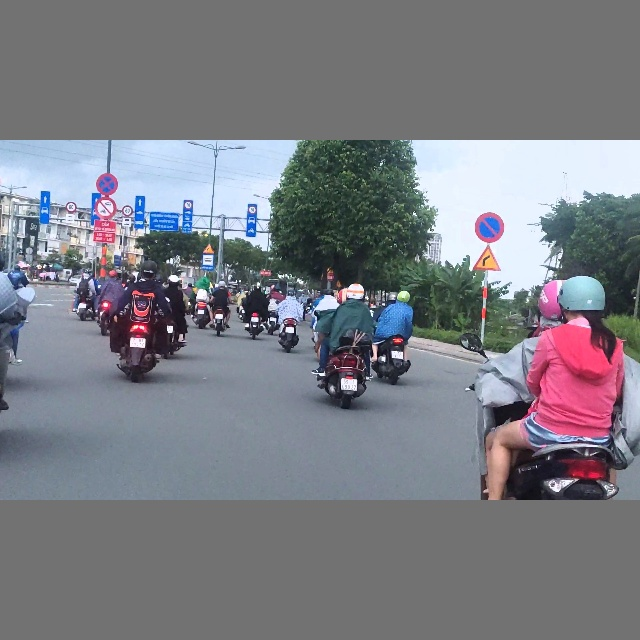I.434a: (201, 253, 215, 271)
P.111: (95, 197, 116, 219)
P.127*50: (184, 201, 193, 209), (249, 206, 257, 213)
P.127*60: (123, 205, 133, 216)
P.127*80: (65, 201, 77, 213)
P.130: (96, 173, 118, 197)
P.131a: (473, 211, 504, 242)
S.505a*Xe tai va cong: (122, 217, 131, 227)
W.201b: (473, 245, 502, 272), (202, 244, 214, 254)
